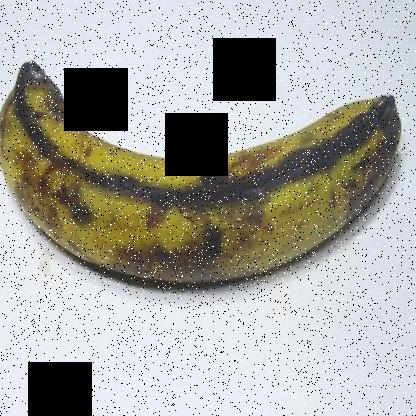overripe: (0, 28, 409, 302)
